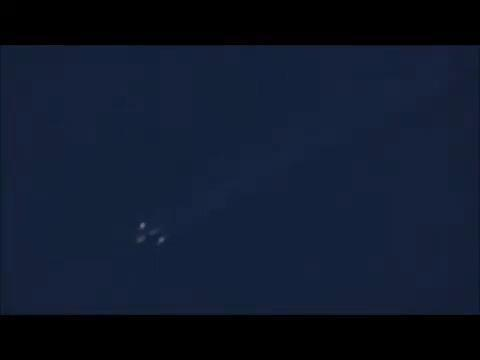Plane: (111, 210, 187, 257)
